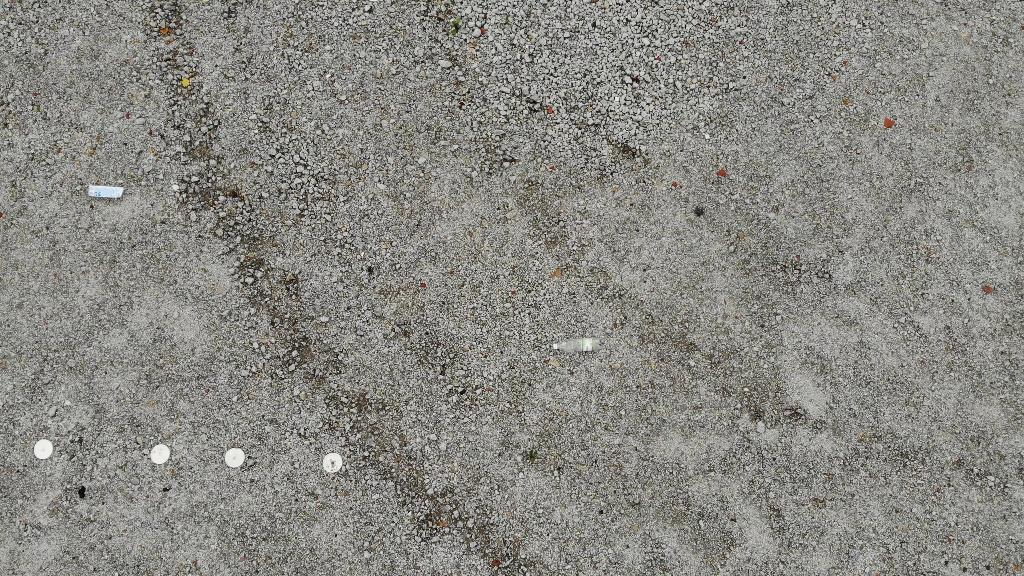garbage: (553, 335, 602, 358), (86, 184, 127, 202)
